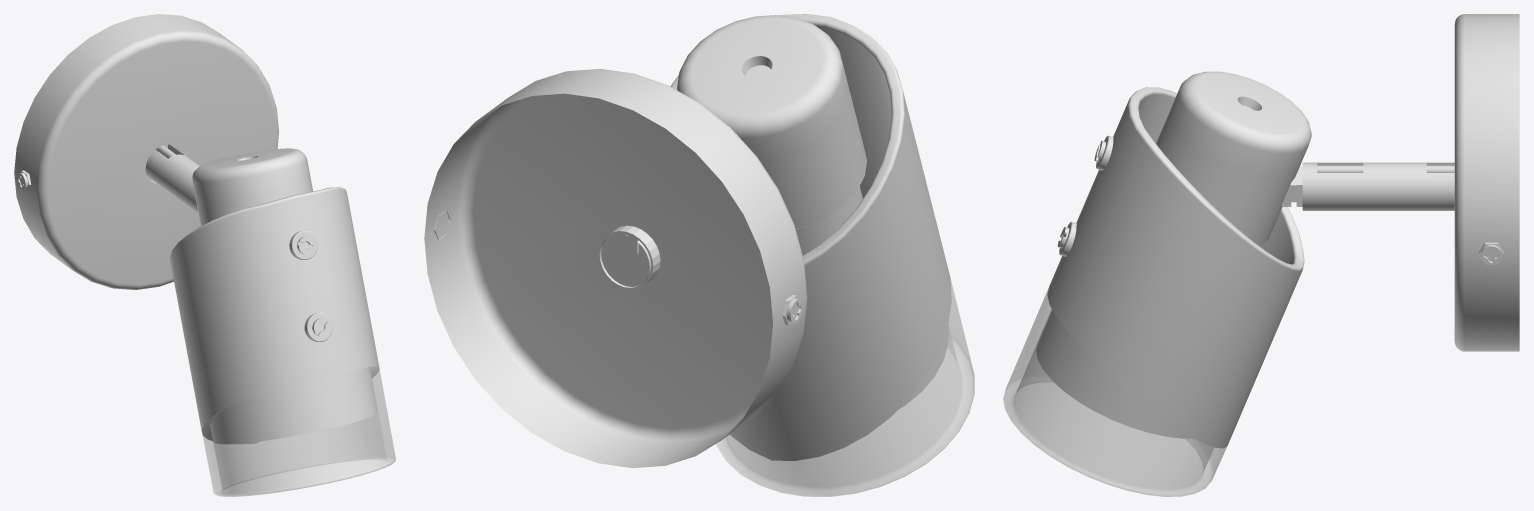
File: RockWallLamp.fbx
The picture shows the model from 3 angles, left to right: view 1: azimuth 30°, elevation 25°; view 2: azimuth 150°, elevation 25°; view 3: azimuth 270°, elevation 25°; orthographic projection. The views are drawn at different scales.
Parts seen in each view (by area): view 1: RockWallLamp; view 2: RockWallLamp; view 3: RockWallLamp.
Part boxes in pixels (left/top/right/bottom): RockWallLamp: left=14, top=14, right=395, bottom=496; RockWallLamp: left=424, top=14, right=974, bottom=496; RockWallLamp: left=1003, top=14, right=1519, bottom=496.
Bounding box in the file's own units: 0.2687 × 0.3956 × 0.3754.
